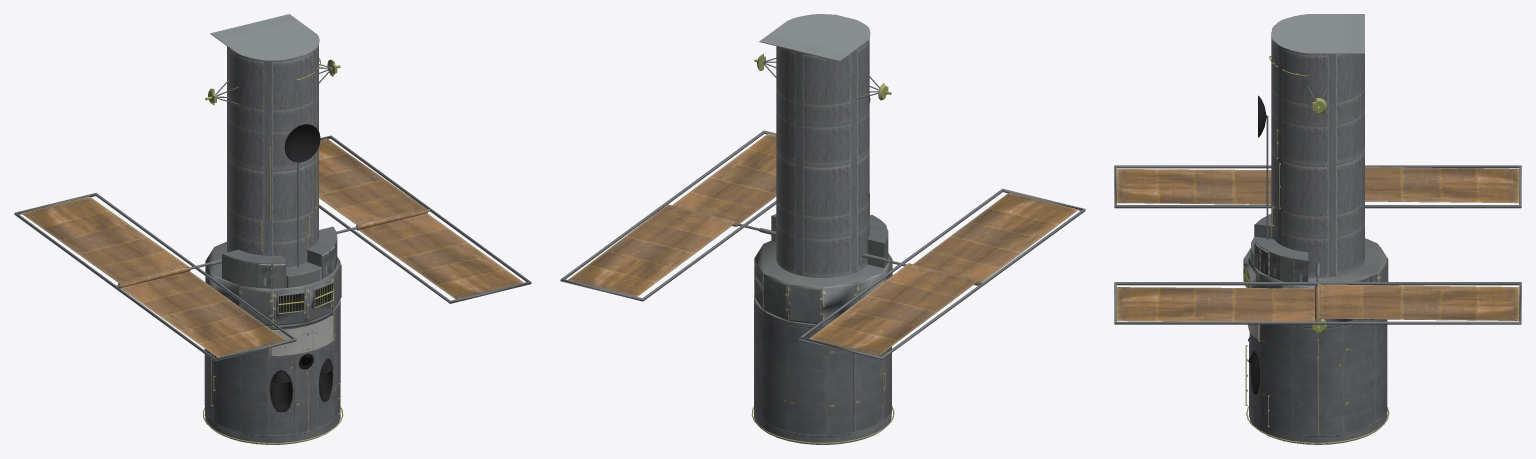
Rendered from derelict-hubble.gltf.
The picture shows the model from 3 angles, left to right: view 1: azimuth 30°, elevation 25°; view 2: azimuth 150°, elevation 25°; view 3: azimuth 270°, elevation 25°; orthographic projection.
Parts seen in each view (by area): view 1: hst; view 2: hst; view 3: hst.
Part boxes in pixels (x1=…): hst: x1=14, y1=14, x2=531, y2=444; hst: x1=560, y1=14, x2=1085, y2=444; hst: x1=1114, y1=14, x2=1521, y2=444.
Size of the model in its own units: 458 by 525 by 501.
Materials: 5 (5 with a texture image).
